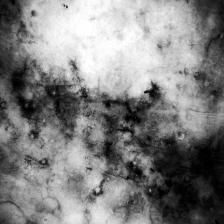Benign Marking or Mole: (13, 55, 220, 216)
